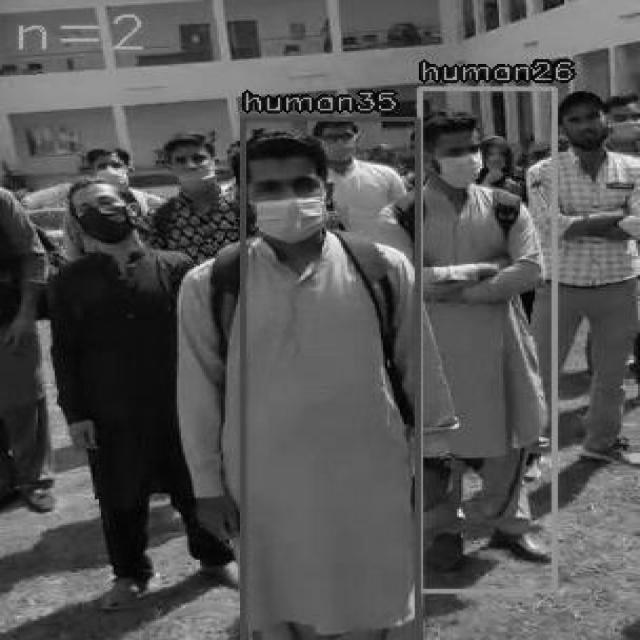person: (240, 117, 417, 640), (417, 87, 554, 590)
